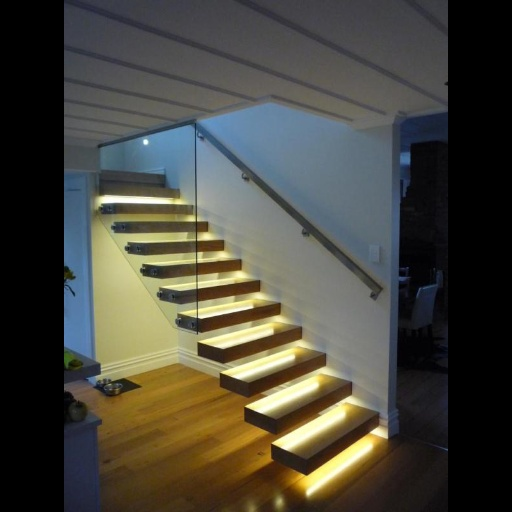Stairs: (99, 170, 379, 474)
